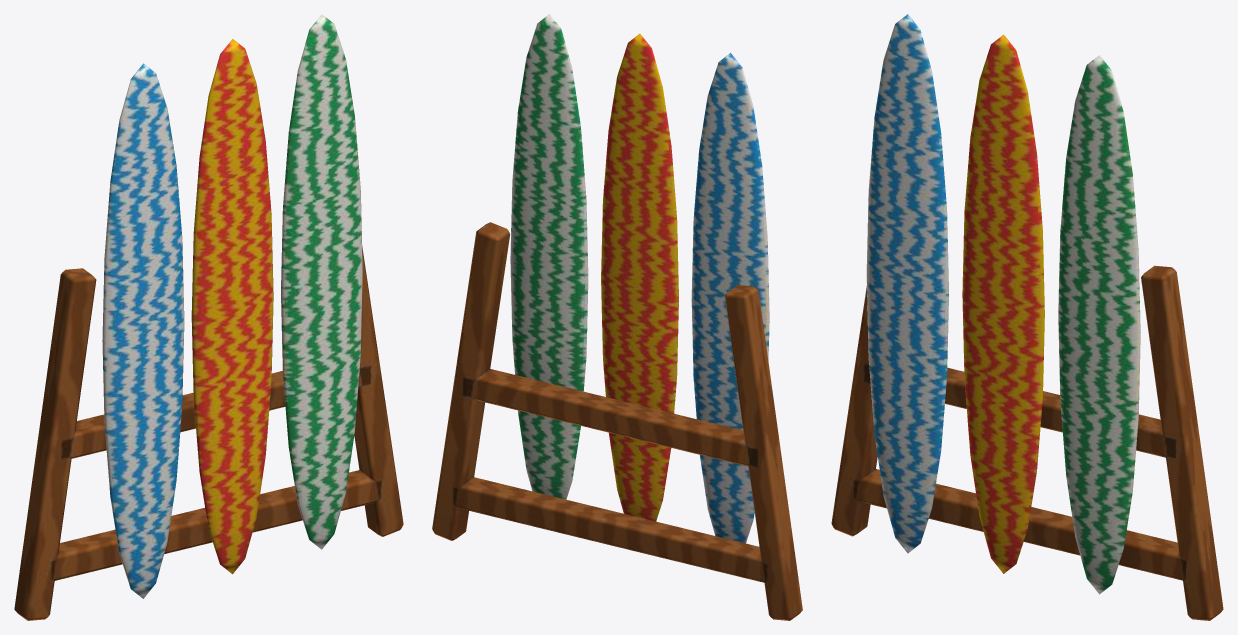
The model's file is surfboard_rack.glb.
3 renders of one model, left to right at view 1: azimuth 30°, elevation 25°; view 2: azimuth 150°, elevation 25°; view 3: azimuth 330°, elevation 25°, orthographic. The views are drawn at different scales.
Visible parts, largest first — view 1: surfboard_rack; view 2: surfboard_rack; view 3: surfboard_rack.
Part boxes in pixels (left/top/right/bottom): surfboard_rack: left=14, top=14, right=403, bottom=620; surfboard_rack: left=432, top=14, right=802, bottom=620; surfboard_rack: left=831, top=14, right=1223, bottom=620.
Size of the model in its own units: 0.7406 by 1.03 by 0.1325.
Materials: 1 (1 with a texture image).
